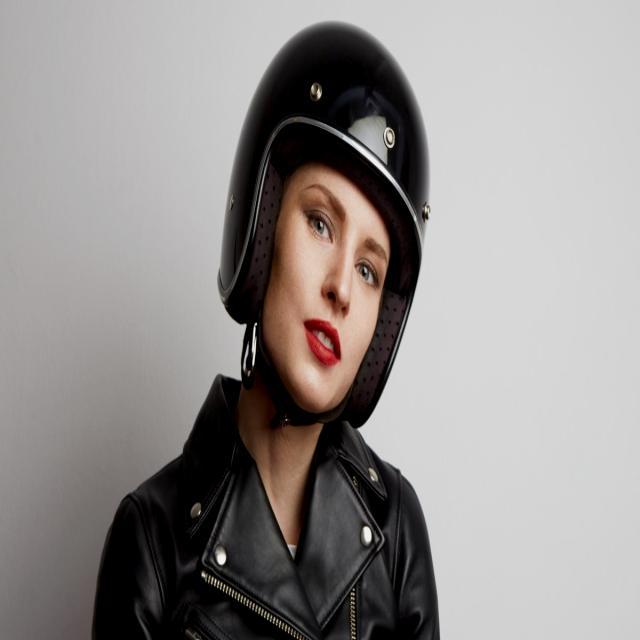helmet: (218, 23, 429, 425)
